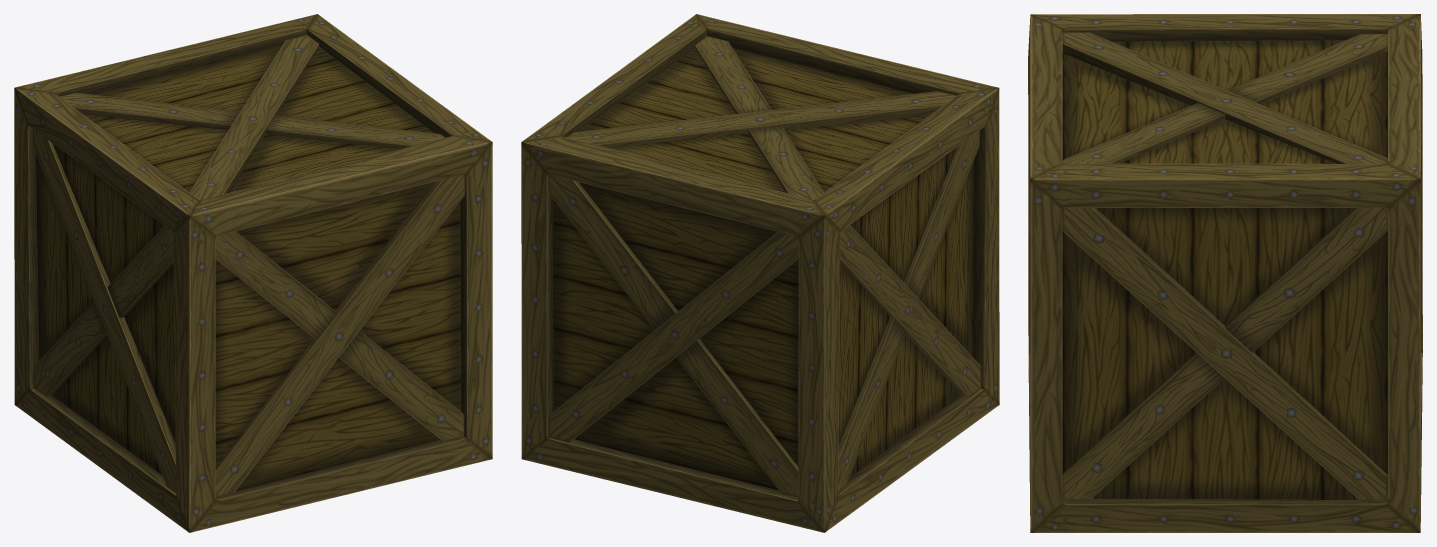
The model's file is largeCrate.fbx.
The picture shows the model from 3 angles, left to right: view 1: azimuth 30°, elevation 25°; view 2: azimuth 150°, elevation 25°; view 3: azimuth 270°, elevation 25°; orthographic projection. The views are drawn at different scales.
Visible parts, largest first — view 1: largeCrate_obj; view 2: largeCrate_obj; view 3: largeCrate_obj.
Boxes of the visible parts, left/top/right/bottom form: largeCrate_obj: left=14, top=14, right=492, bottom=532; largeCrate_obj: left=521, top=14, right=999, bottom=532; largeCrate_obj: left=1028, top=14, right=1422, bottom=532.
Bounding box in the file's own units: 1.01 × 1.01 × 1.01.
